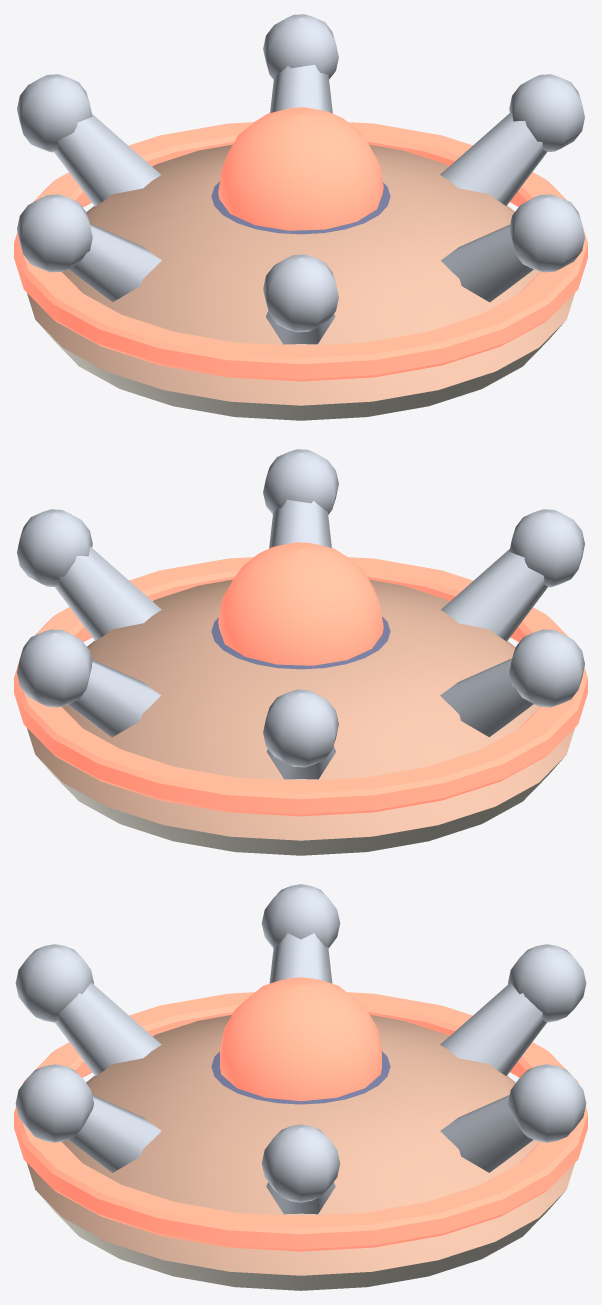
The model's file is R4D_ExplosiveTrap.fbx.
The picture shows the model from 3 angles, top to bottom: view 1: azimuth 30°, elevation 25°; view 2: azimuth 150°, elevation 25°; view 3: azimuth 270°, elevation 25°; orthographic projection.
Parts seen in each view (by area): view 1: R4D_ExplosiveTrap_Body, R4D_ExplosiveTrap_Lamp; view 2: R4D_ExplosiveTrap_Body, R4D_ExplosiveTrap_Lamp; view 3: R4D_ExplosiveTrap_Body, R4D_ExplosiveTrap_Lamp.
Boxes of the visible parts, x1=… form: R4D_ExplosiveTrap_Body: x1=14, y1=14, x2=587, y2=420; R4D_ExplosiveTrap_Lamp: x1=218, y1=107, x2=383, y2=230; R4D_ExplosiveTrap_Body: x1=14, y1=449, x2=587, y2=855; R4D_ExplosiveTrap_Lamp: x1=218, y1=542, x2=383, y2=665; R4D_ExplosiveTrap_Body: x1=14, y1=884, x2=587, y2=1290; R4D_ExplosiveTrap_Lamp: x1=220, y1=977, x2=381, y2=1101.
Size of the model in its own units: 0.5054 by 0.1708 by 0.4484.
